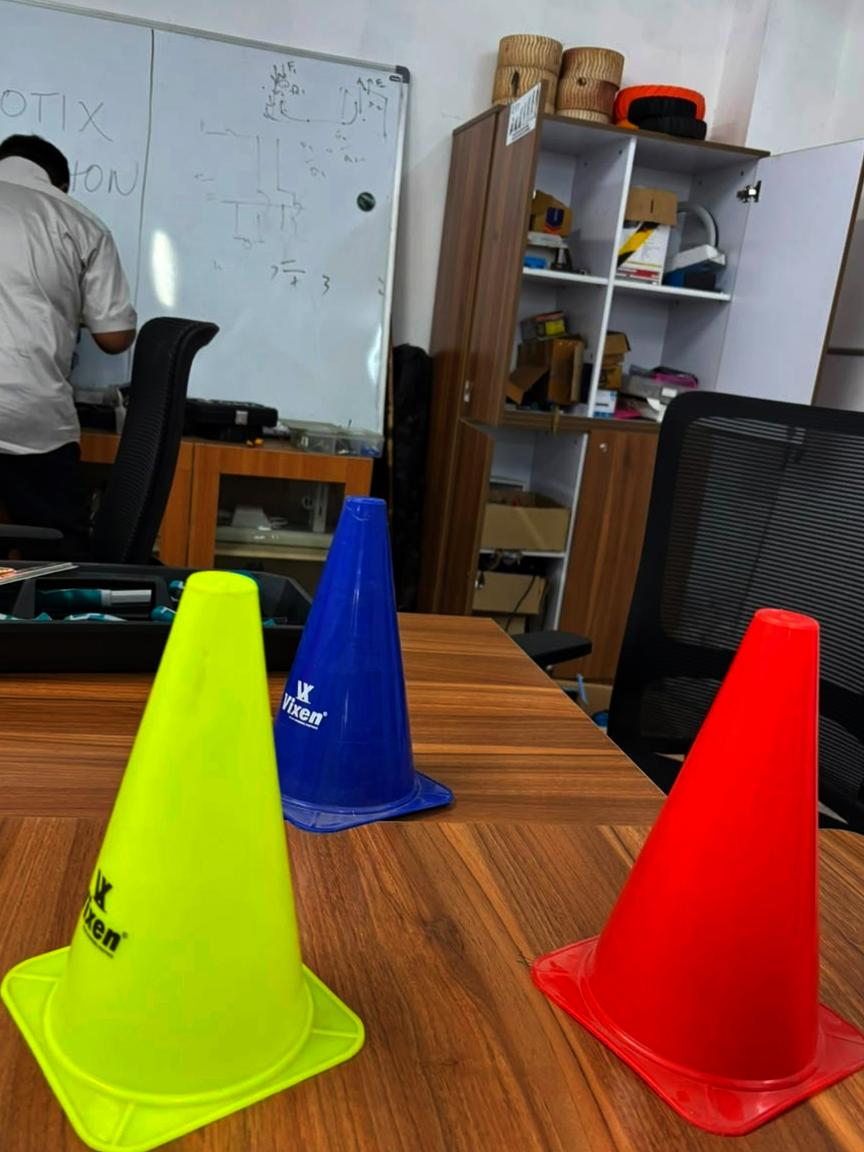0 cone: (2, 498, 451, 1152), (532, 609, 864, 1135)
